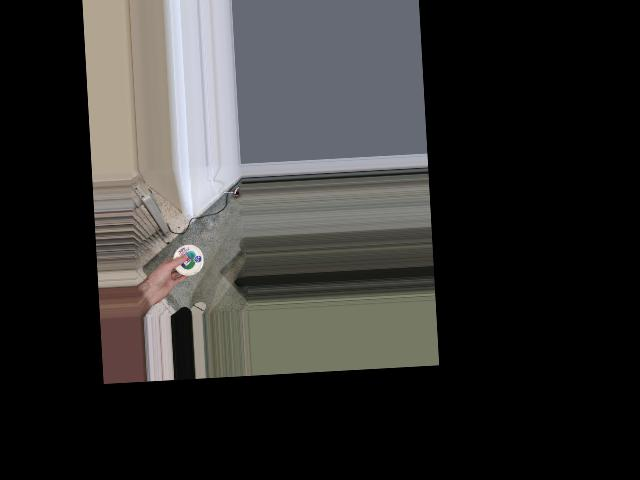cotage: (172, 245, 202, 276)
